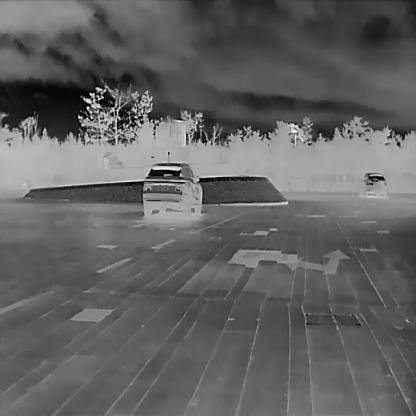car: (141, 162, 202, 215), (362, 172, 386, 198)
